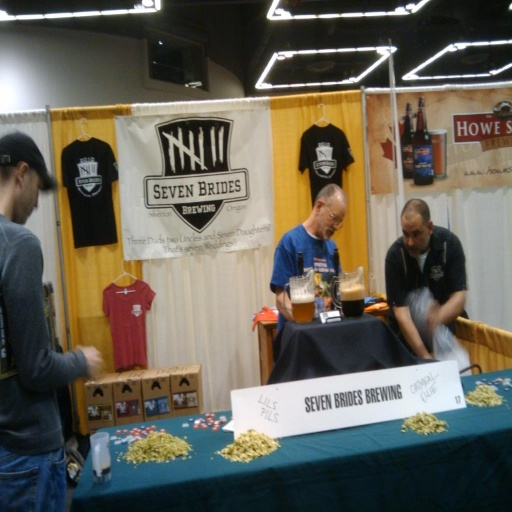hand: (78, 343, 105, 381), (427, 306, 440, 328), (423, 348, 432, 360)
